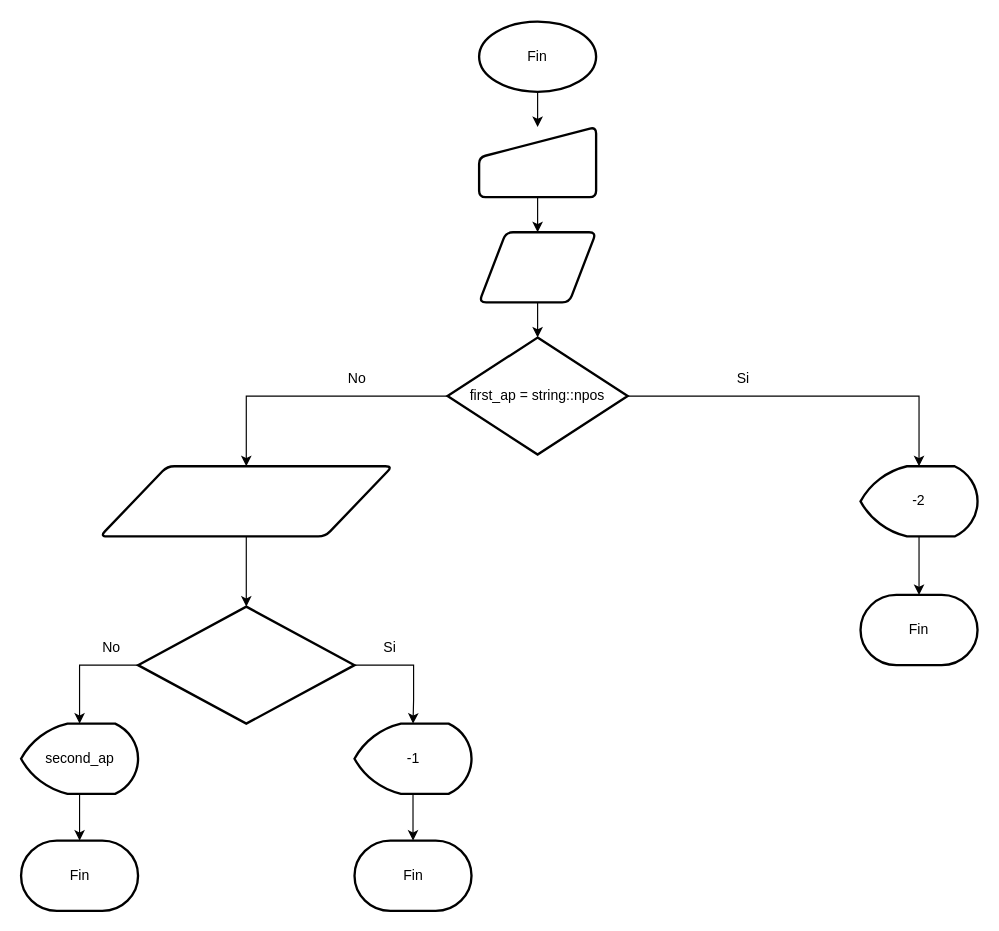
This 999x931 diagram has some shape labels left out. The shapes that lost their labels are listed below. From the top down, each one's centre as x and y in pixels, then its label:
At point (537, 161): "getline (s)".
At point (537, 266): "first_ap = s.find('f')".
At point (245, 500): "second_ap = s.find('f' , first_ap +1".
At point (245, 664): "second_ap = string::npos".
